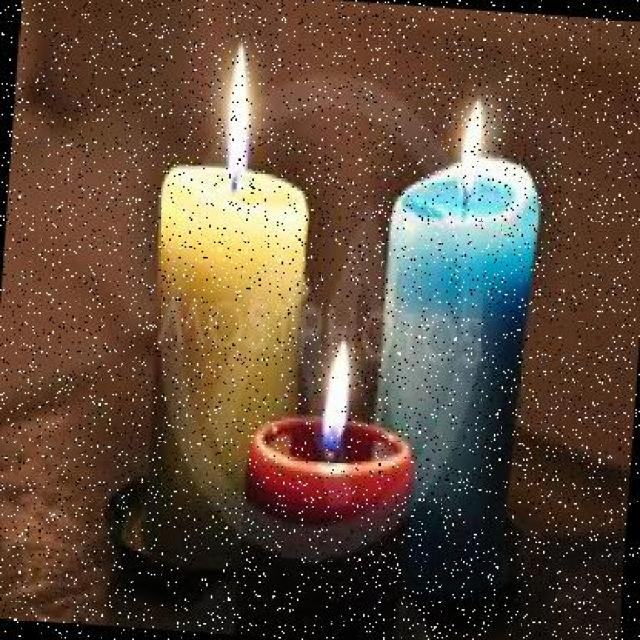fire: (309, 329, 363, 451), (221, 35, 257, 183), (456, 89, 490, 189)
